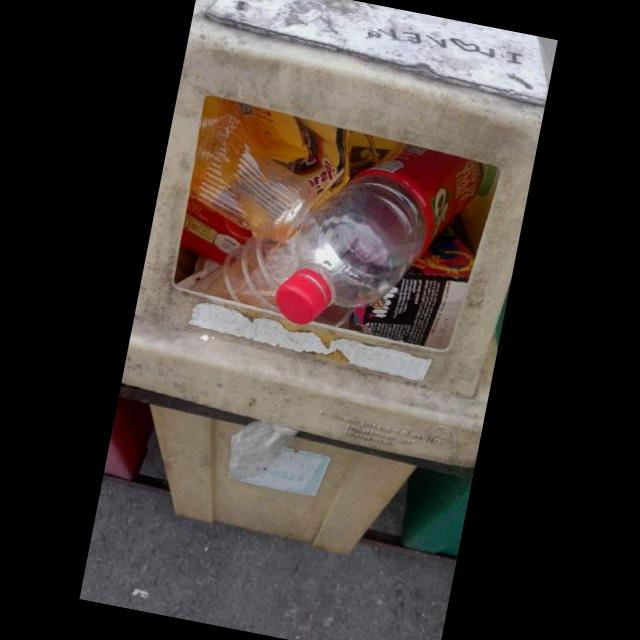bao_bi_thuc_pham: (201, 95, 354, 208)
carton: (354, 224, 476, 350)
chai_nhua_pet: (276, 145, 484, 325)
ong_hut_nhua: (309, 168, 346, 213)
